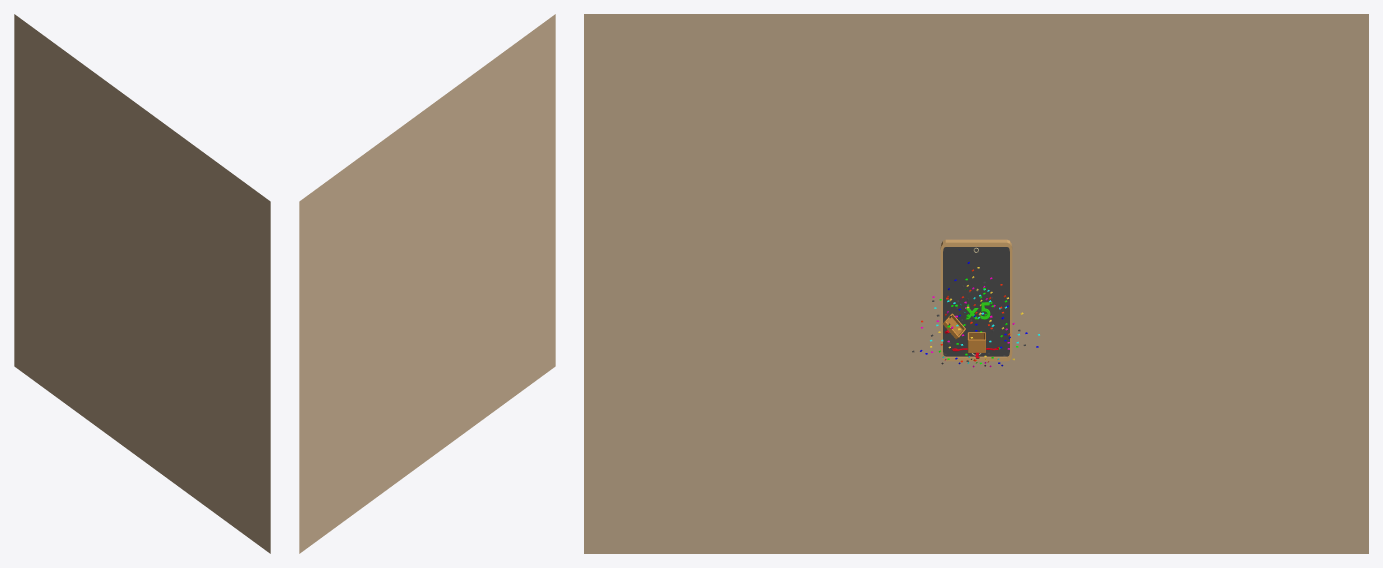
The model's file is hediye_kutusu_acmafbx.fbx.
3 renders of one model, left to right at view 1: azimuth 30°, elevation 25°; view 2: azimuth 150°, elevation 25°; view 3: azimuth 270°, elevation 25°, orthographic. The views are drawn at different scales.
Visible parts, largest first — view 1: Plane.001; view 2: Plane.001; view 3: Plane.001, Plane.005.
Boxes of the visible parts, x1,y1,x2,y2 form: Plane.001: (14, 14, 270, 553); Plane.001: (299, 14, 555, 553); Plane.001: (584, 14, 1368, 553); Plane.005: (940, 239, 1012, 361).
Bounding box in the file's own units: 1404 × 6467 × 8518.
